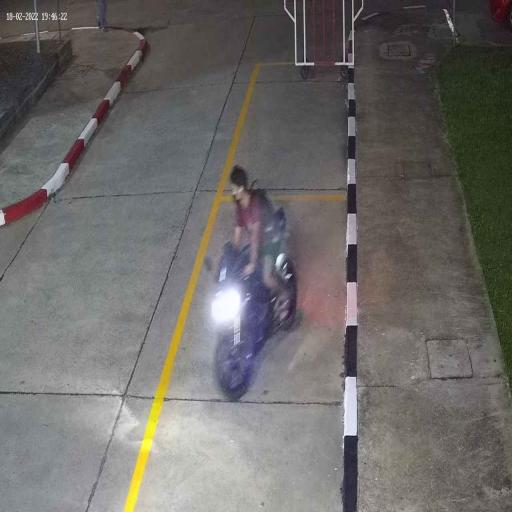motorcycle: (211, 244, 300, 406)
